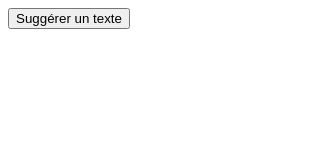
SuggestionTexte › n'écrit la suggestion que sur « Utiliser »
Later steps or results of the test are not shown.
Click the button "Suggérer un texte". click: click(69, 18)
box: left=8, top=8, right=130, bottom=29
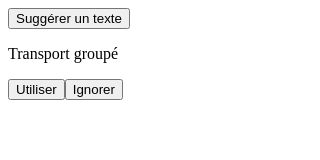
Check: the text "Transport groupé" is shown, box left=8, top=45, right=118, bottom=62
